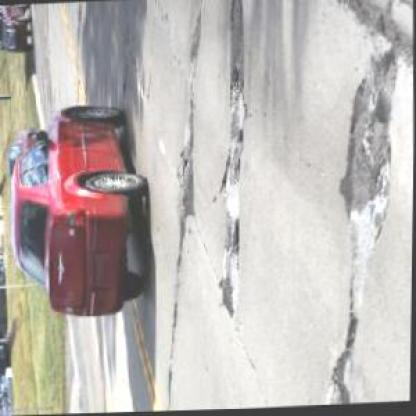pothole: (334, 54, 401, 225), (223, 0, 246, 148), (172, 122, 195, 222), (226, 218, 241, 256)
